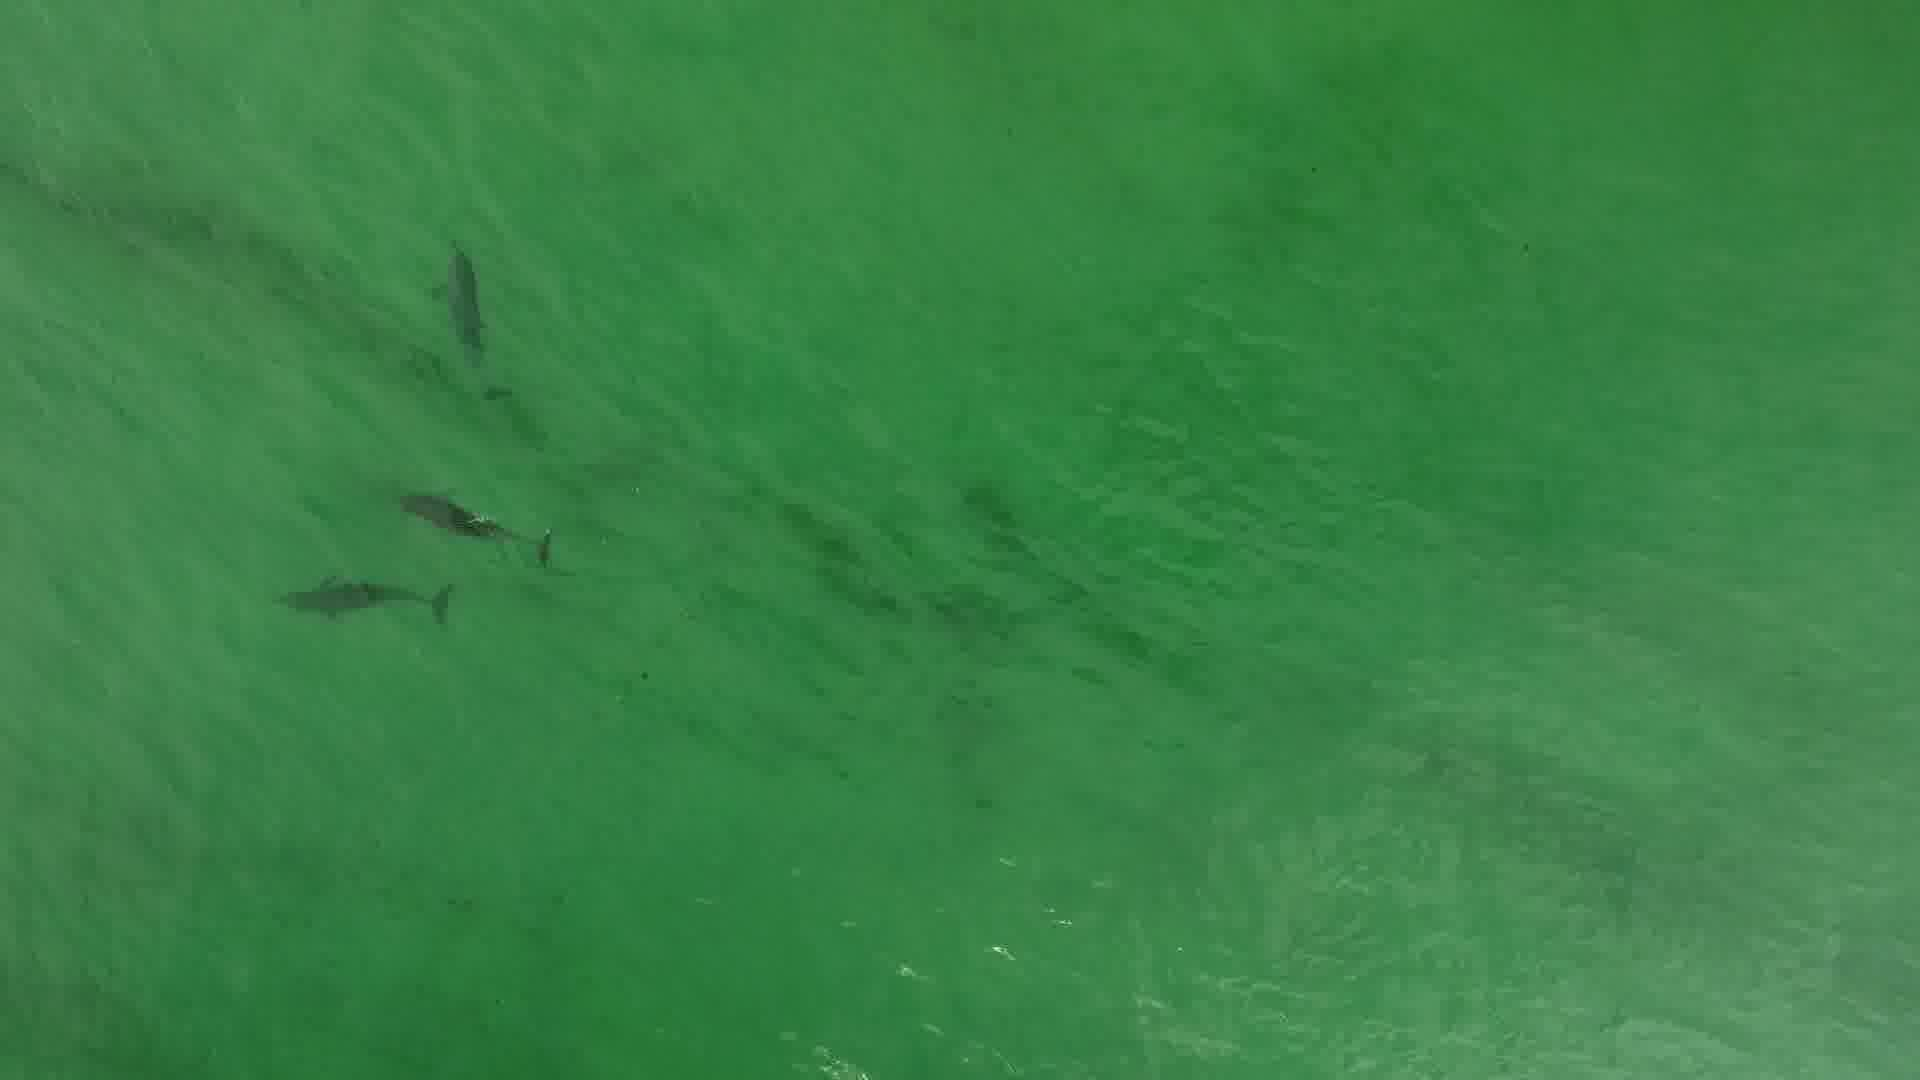dolphin: (386, 212, 527, 407), (237, 560, 477, 634), (365, 477, 567, 564)
